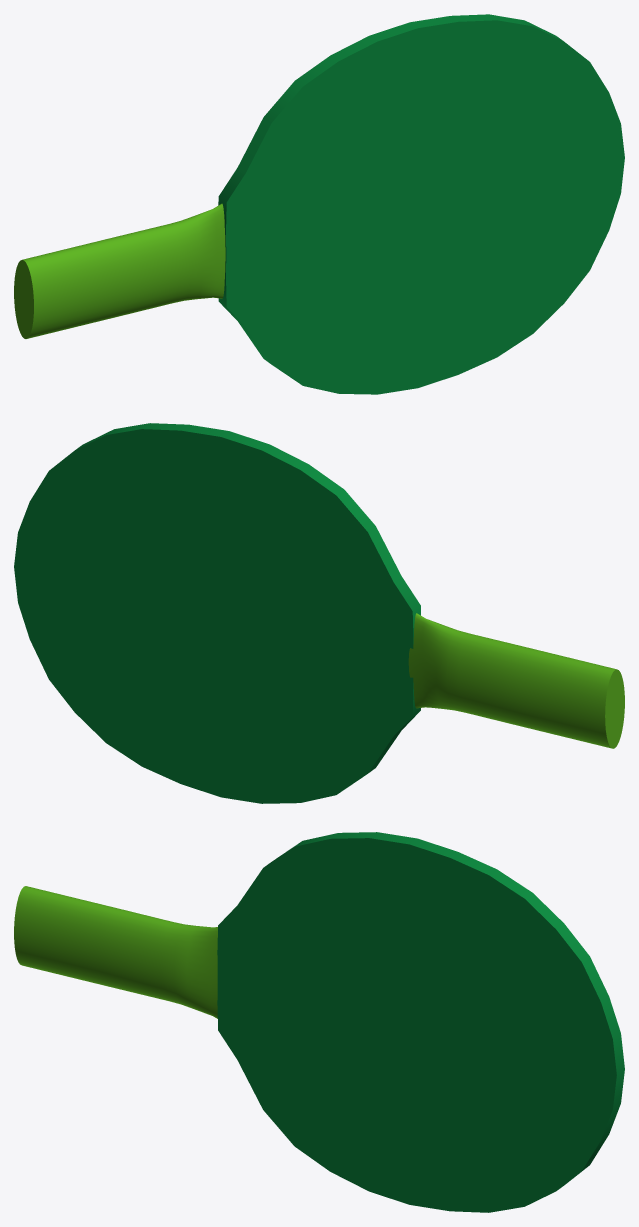
Rendered from racket2.obj.
The picture shows the model from 3 angles, top to bottom: view 1: azimuth 30°, elevation 25°; view 2: azimuth 150°, elevation 25°; view 3: azimuth 330°, elevation 25°; orthographic projection.
Parts seen in each view (by area): view 1: Cylinder01, Cylinder02; view 2: Cylinder01, Cylinder02; view 3: Cylinder01, Cylinder02.
Part boxes in pixels (x1,y1,x2,y2): Cylinder01: [218, 14, 624, 394]; Cylinder02: [14, 203, 225, 338]; Cylinder01: [14, 423, 420, 803]; Cylinder02: [408, 613, 624, 748]; Cylinder01: [217, 832, 624, 1212]; Cylinder02: [14, 886, 217, 1018].
Size of the model in its own units: 197 by 113 by 11.41.
